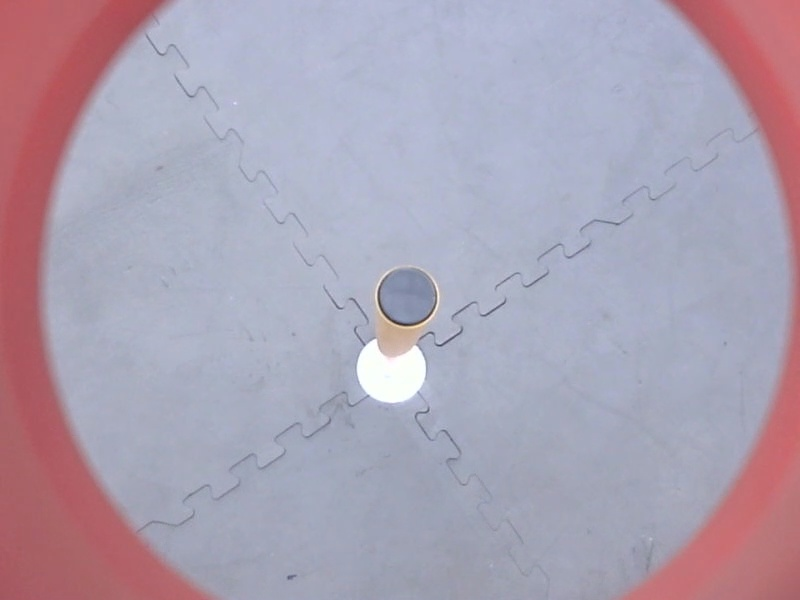tip: (372, 263, 445, 333)
